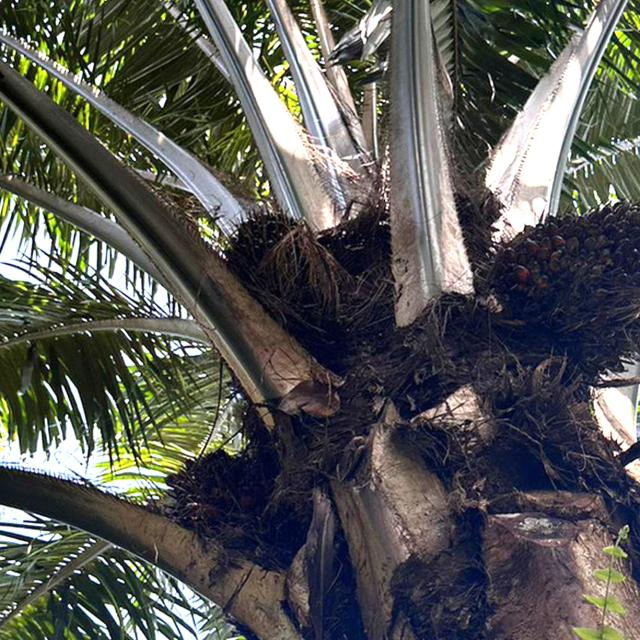unripe: (476, 187, 640, 374), (212, 199, 368, 349), (151, 444, 299, 549)
